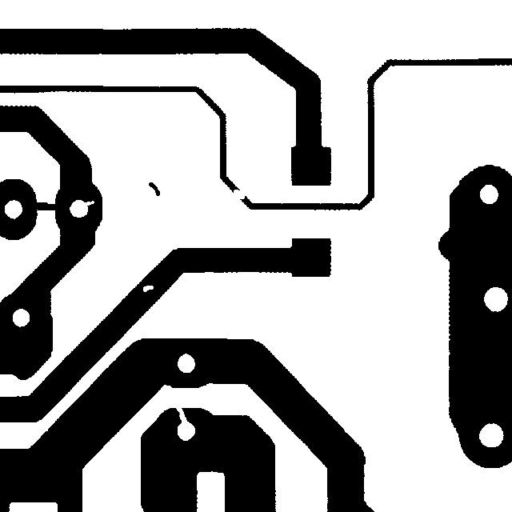copper: (141, 174, 167, 203)
mousebite: (75, 193, 102, 213)
open: (168, 398, 194, 433), (225, 182, 254, 206)
pin-hole: (135, 278, 161, 299)
short: (24, 194, 66, 218)
